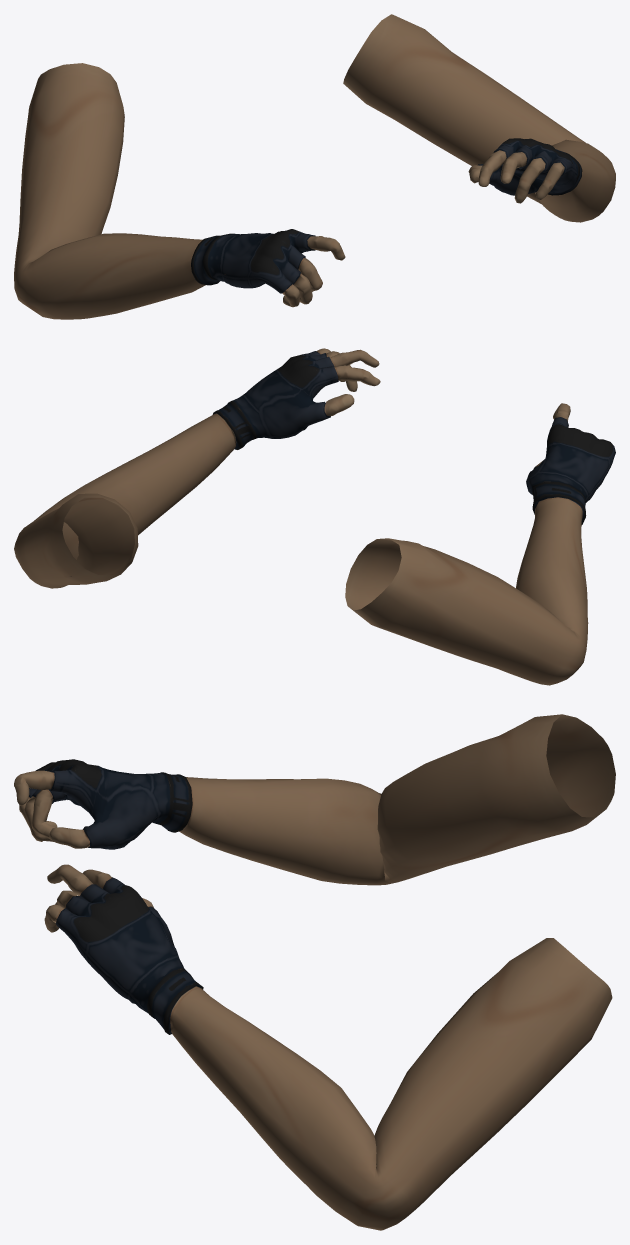
File: static_knife_arms.fbx
The picture shows the model from 3 angles, top to bottom: view 1: azimuth 30°, elevation 25°; view 2: azimuth 150°, elevation 25°; view 3: azimuth 270°, elevation 25°; orthographic projection. The views are drawn at different scales.
Parts seen in each view (by area): view 1: glove_low; view 2: glove_low; view 3: glove_low.
Boxes of the visible parts, bbox=[...] form: glove_low: bbox=[14, 14, 615, 319]; glove_low: bbox=[14, 348, 615, 685]; glove_low: bbox=[14, 714, 615, 1230].
Size of the model in its own units: 628 by 209 by 452.
